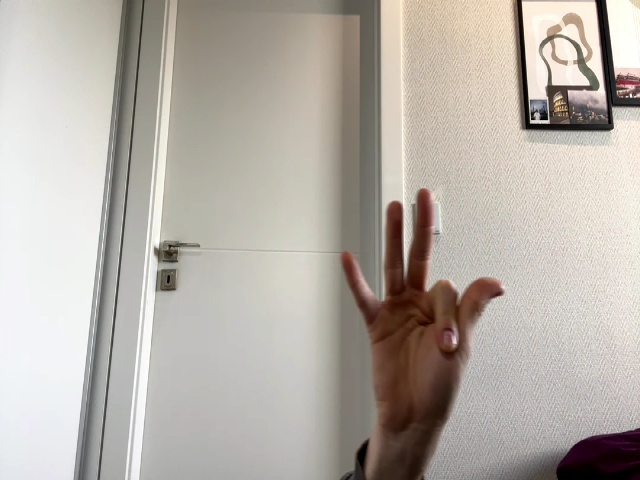F: (341, 188, 505, 408)
